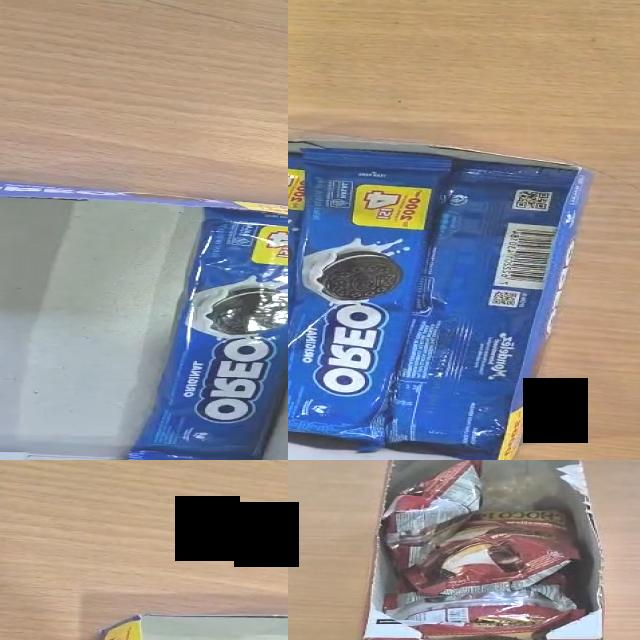Chocopie: (402, 509, 584, 597), (382, 584, 586, 640), (382, 460, 482, 572)
Oreo: (384, 159, 578, 460), (288, 146, 453, 452), (123, 206, 288, 460)
